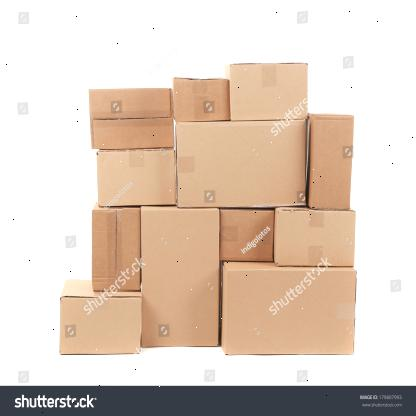box: (176, 120, 308, 208), (226, 269, 355, 355), (141, 208, 219, 348), (88, 88, 175, 149), (60, 296, 141, 354), (98, 150, 176, 207), (276, 211, 355, 267), (231, 63, 307, 121), (310, 115, 354, 210), (93, 208, 141, 291), (220, 210, 276, 262), (173, 78, 229, 121)
